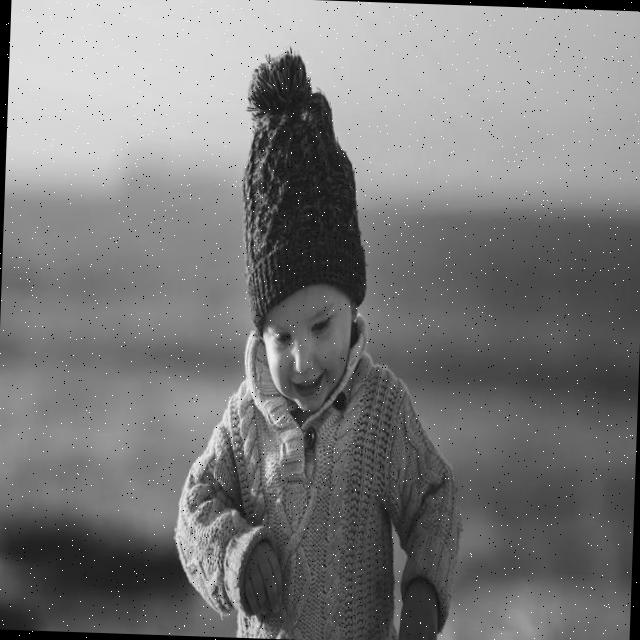Happiness: (258, 280, 358, 414)
